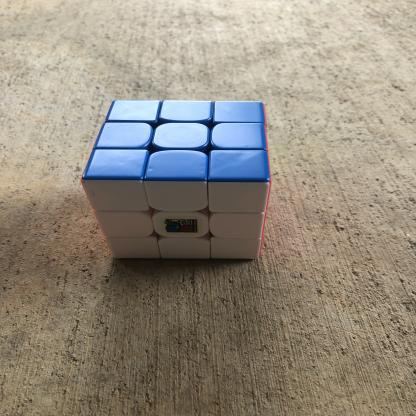SolvedCube: (72, 78, 280, 282)
